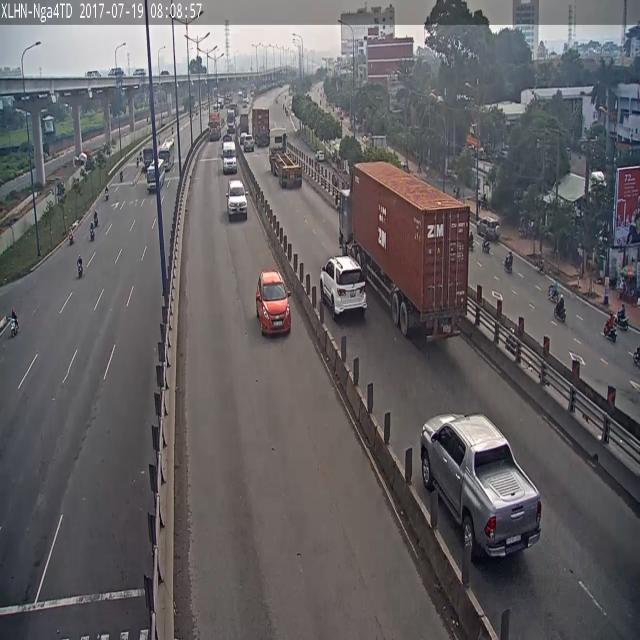car: (604, 314, 616, 341), (554, 296, 566, 321), (504, 251, 513, 274), (11, 310, 18, 336), (77, 256, 82, 278), (68, 228, 73, 244), (90, 222, 94, 241), (94, 210, 98, 227), (104, 186, 108, 201)
traffic-light: (421, 413, 542, 556), (320, 256, 366, 318), (256, 270, 290, 335), (226, 180, 247, 218), (476, 218, 499, 241), (222, 141, 236, 173)
truck: (339, 161, 469, 344)
